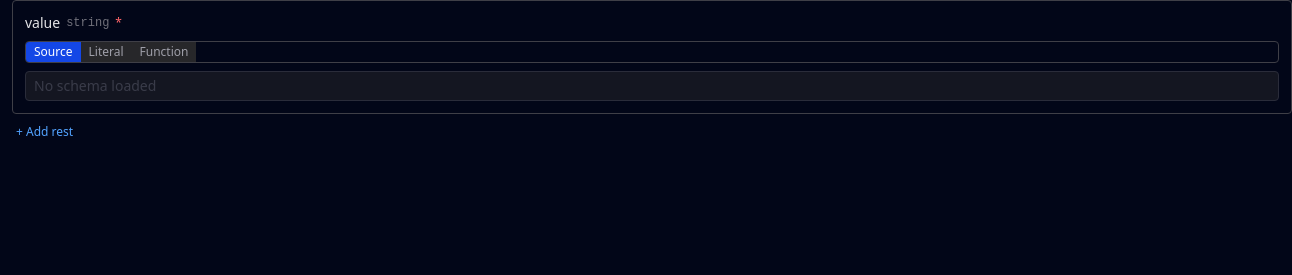
Scenario: ArgumentConfigurator › clicking "Add argument" adds a variadic slot
Click the button with aria-label "add rest argument".
click(45, 132)  # box [12,122,77,142]
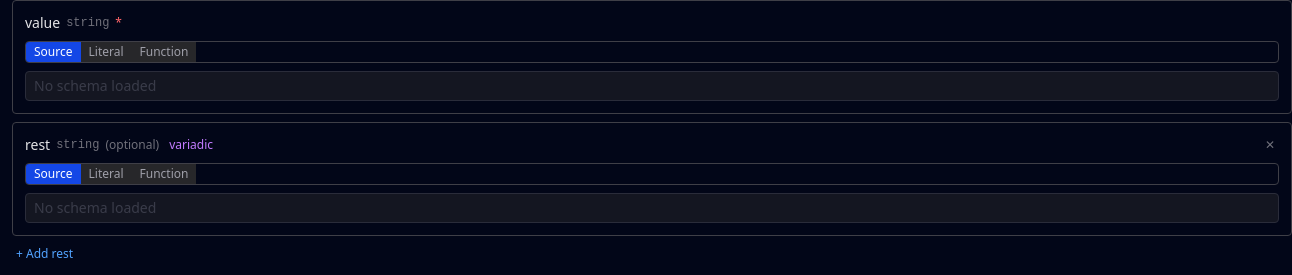
Expected: the number of elements with test id "argument-slot-rest" is 1, [12,122,1291,236]
